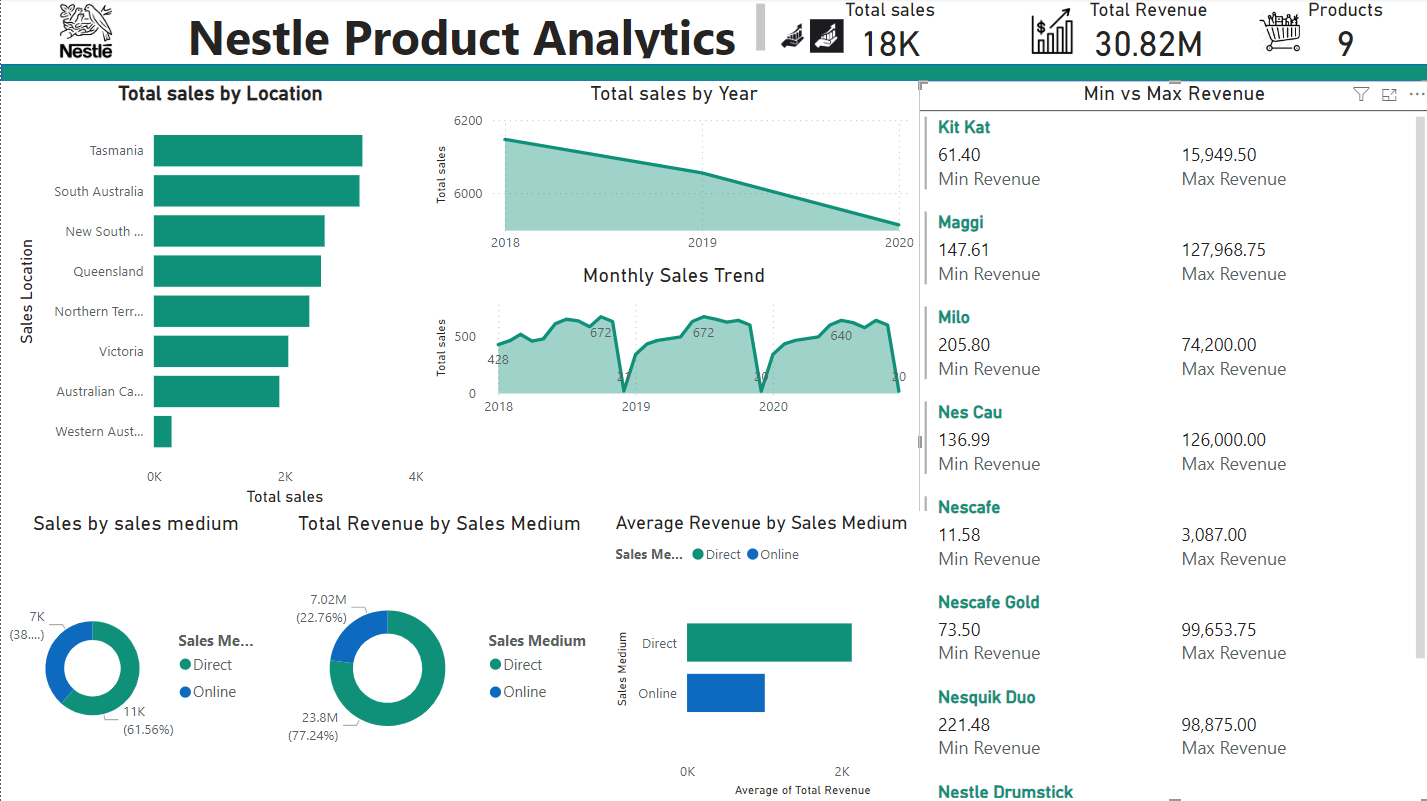

The dashboard page shown, as its layout file describes it:
{"tool":"powerbi","page":{"name":"Dash Board","canvas":[1280,720],"ordinal":5},"visuals":[{"type":"textbox","box":[143.3,0,546.3,59.1],"z":0},{"type":"shape","box":[0,59.1,1279.7,15.2],"z":1000},{"type":"barChart","title":"Total sales by Location","fields":{"Category":["Sales Log.Sales Location"],"Y":["my_measures.Total sales"]},"box":[9.9,74.3,373.4,385.1],"z":2000},{"type":"areaChart","fields":{"Category":["Sales Log.Date.Variation.Date Hierarchy.Year"],"Y":["my_measures.Total sales"]},"box":[383.3,74.3,438.8,163],"z":3000},{"type":"areaChart","title":"Monthly Sales Trend ","fields":{"Category":["Sales Log.Date.Variation.Date Hierarchy.Year","Sales Log.Date.Variation.Date Hierarchy.Month"],"Y":["my_measures.Total sales"]},"box":[383.3,237.3,438.8,146.9],"z":4000},{"type":"multiRowCard","title":"Min vs Max Revenue ","fields":{"Values":["Sales Log.Product Name","my_measures.Min Revenue","my_measures.Max Revenue"]},"box":[822.1,74.3,457.6,645.7],"z":5000},{"type":"donutChart","title":"Sales by sales medium","fields":{"Category":["Sales Log.Sales Medium"],"Y":["my_measures.Total sales"]},"box":[0,459.4,241.8,260.6],"z":5001},{"type":"donutChart","title":"Total Revenue by Sales Medium","fields":{"Category":["Sales Log.Sales Medium"],"Y":["Sum(Sales Log.Total Revenue)"]},"box":[250.7,459.4,283.9,260.6],"z":5002},{"type":"barChart","title":"Average Revenue by Sales Medium ","fields":{"Category":["Sales Log.Sales Medium"],"Y":["Avg(Sales Log.Total Revenue)"],"Series":["Sales Log.Sales Medium"]},"box":[545.4,459.4,288.4,260.6],"z":5003},{"type":"image","box":[9.9,0,133.4,59.1],"z":5004},{"type":"card","title":"Total sales","fields":{"Values":["my_measures.Total sales"]},"box":[689.6,0,213.1,59.1],"z":5005},{"type":"card","title":"Total Revenue","fields":{"Values":["Sum(Sales Log.Total Revenue)"]},"box":[909.9,0,235.5,59.1],"z":5006},{"type":"card","title":"Products","fields":{"Values":["Count(Sales Log.Product Name)"]},"box":[1128.4,0,151.3,59.1],"z":5007},{"type":"image","box":[689.6,0,69.9,67.2],"z":5008},{"type":"image","box":[1122.1,0,45.7,59.1],"z":5009},{"type":"image","box":[909.9,0,62.7,59.1],"z":5010}]}

Visuals, with their boxes in screenshot pixels (x1, y1, x2, y2), scaled from the page's 1280x720 canvas onto the 1427x801 screenshot:
textbox: x1=160 y1=0 x2=769 y2=66
shape: x1=0 y1=66 x2=1426 y2=83
"Total sales by Location" barChart: x1=11 y1=83 x2=427 y2=511
areaChart - Sales Log.Date.Variation.Date Hierarchy.Year x my_measures.Total sales: x1=427 y1=83 x2=917 y2=264
"Monthly Sales Trend " areaChart: x1=427 y1=264 x2=917 y2=427
"Min vs Max Revenue " multiRowCard: x1=917 y1=83 x2=1426 y2=800
"Sales by sales medium" donutChart: x1=0 y1=511 x2=270 y2=800
"Total Revenue by Sales Medium" donutChart: x1=279 y1=511 x2=596 y2=800
"Average Revenue by Sales Medium " barChart: x1=608 y1=511 x2=930 y2=800
image: x1=11 y1=0 x2=160 y2=66
"Total sales" card: x1=769 y1=0 x2=1006 y2=66
"Total Revenue" card: x1=1014 y1=0 x2=1277 y2=66
"Products" card: x1=1258 y1=0 x2=1426 y2=66
image: x1=769 y1=0 x2=847 y2=75
image: x1=1251 y1=0 x2=1302 y2=66
image: x1=1014 y1=0 x2=1084 y2=66
